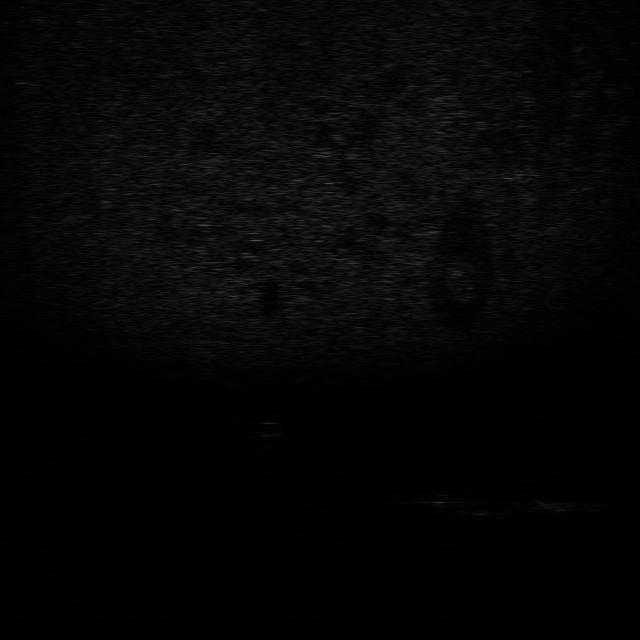ball: (248, 418, 288, 438)
metal bucket: (518, 494, 584, 518)
tyre: (431, 491, 509, 517)
